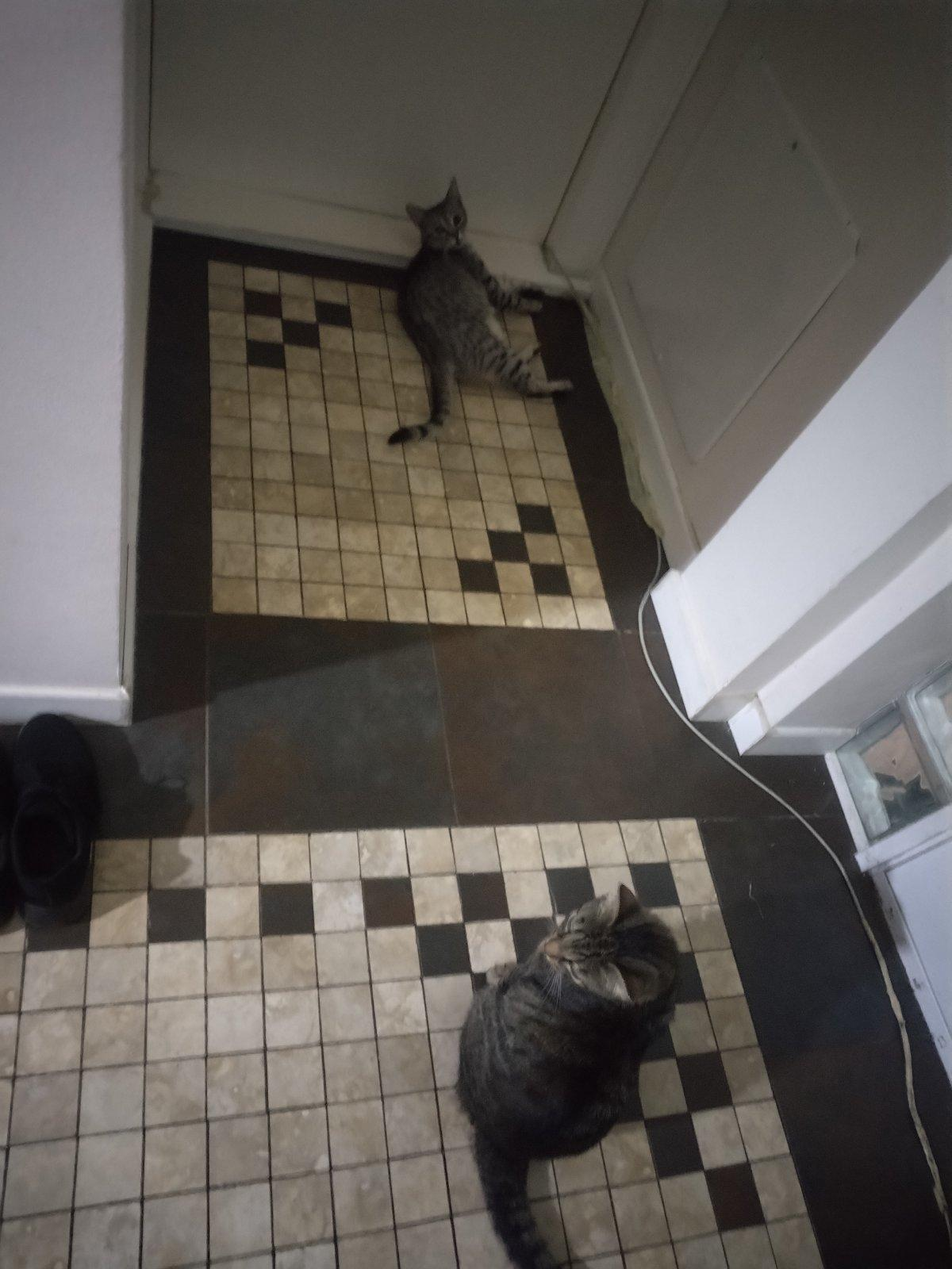macka: (455, 884, 682, 1268), (387, 175, 575, 445)
